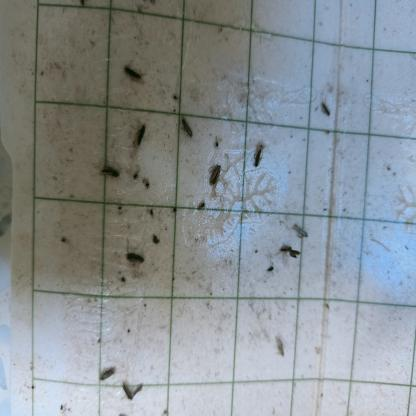prays_oleae: (123, 242, 151, 286), (119, 360, 140, 404), (276, 238, 302, 272), (178, 113, 201, 148), (133, 116, 154, 153), (252, 141, 274, 174), (124, 58, 145, 92), (269, 330, 290, 364), (318, 90, 334, 126), (206, 154, 220, 192), (104, 157, 120, 183), (98, 362, 115, 385)
